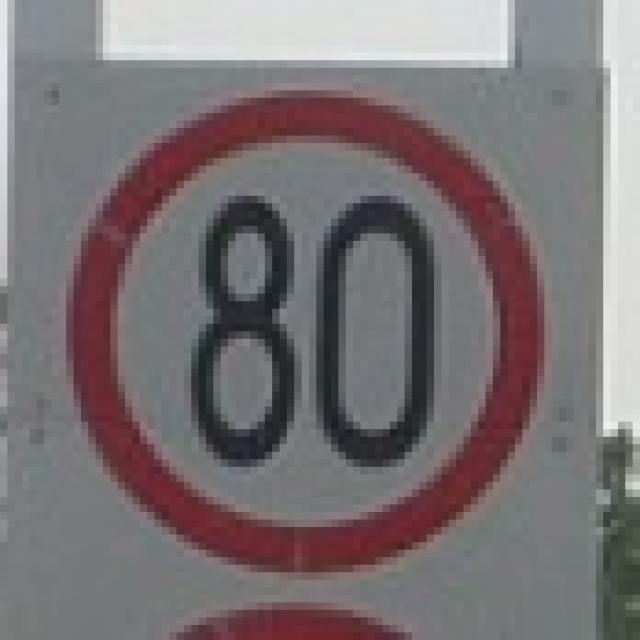Speed Limit -80-: (183, 187, 440, 470)
